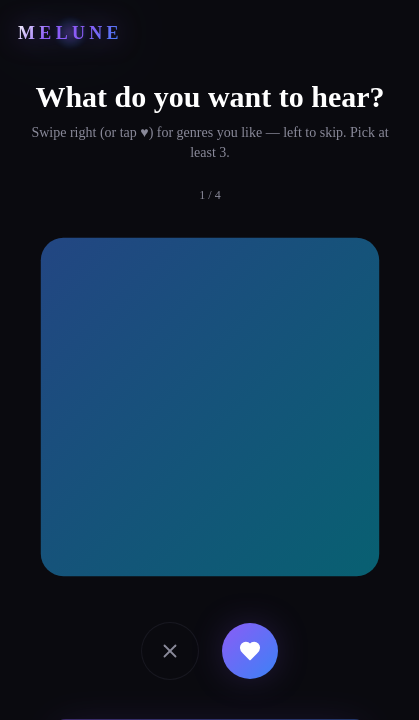
Scenario: OnboardingPage (Tinder-style swipe deck) › Restart picks resets the deck back to the first card
The image size is (419, 720).
Click the button named "Skip Lo-fi". click: (170, 651)
box: [142,623,198,679]
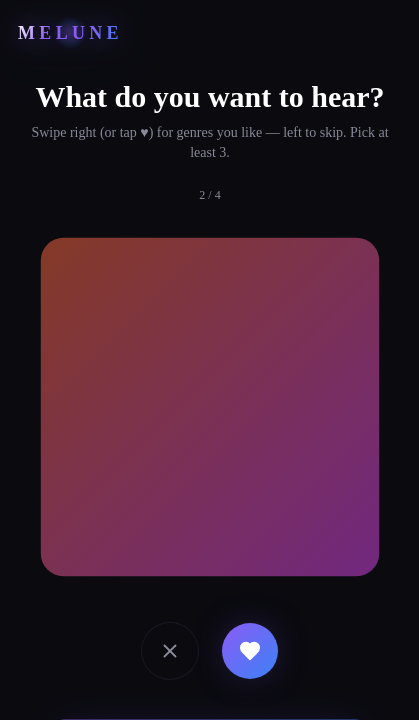
Click the button named "Skip Synthwave". click: (170, 651)
box: [142,623,198,679]
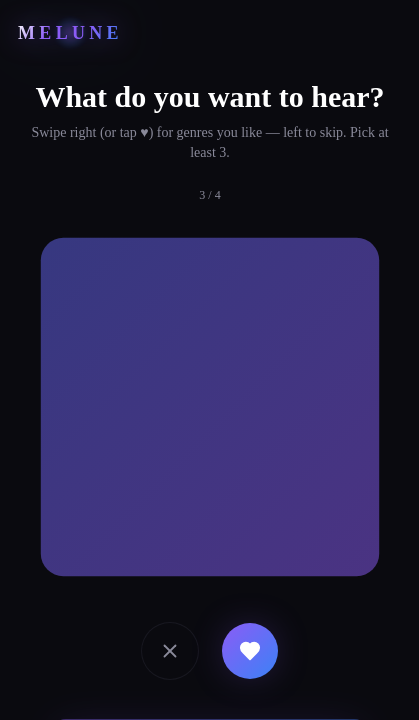
Click the button named "Skip Persian Pop". click: (170, 651)
box: [142,623,198,679]
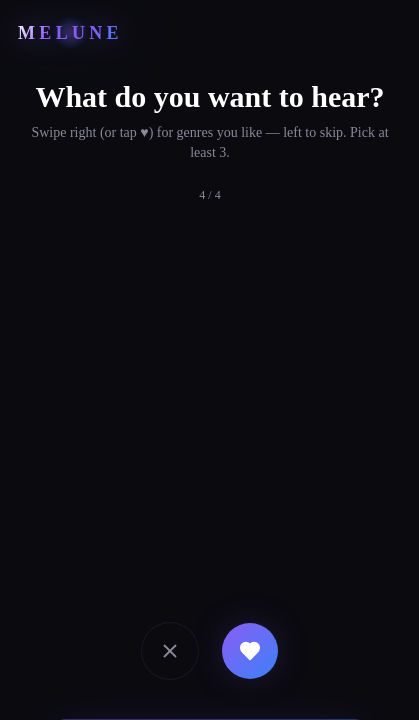
Click the button named "Skip Jazz". click: (170, 651)
box: [142,623,198,679]
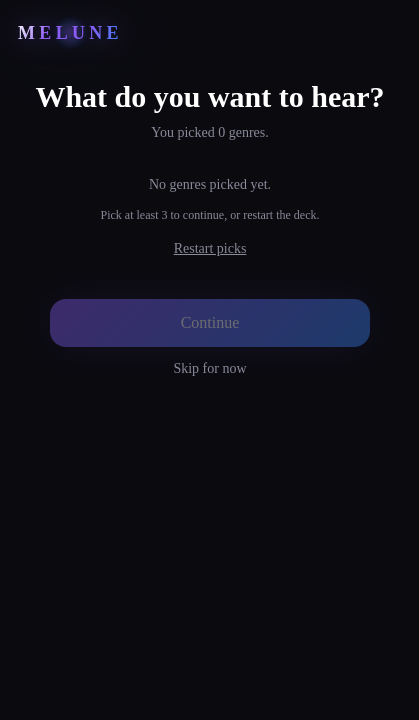
Click the button "Restart picks". click: (210, 249)
box: [174,239,246,259]
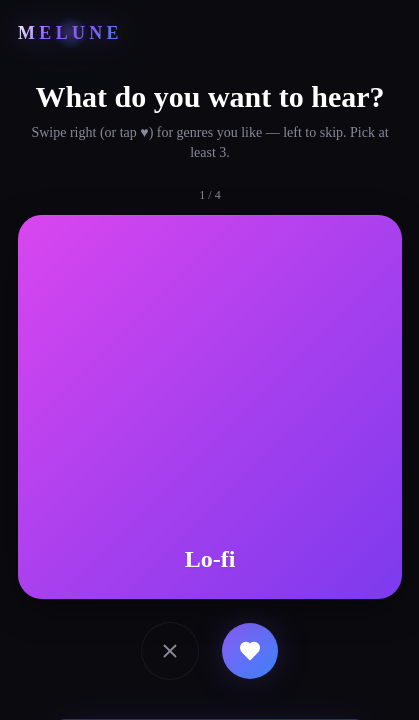
Expected: the text "Lo-fi" is shown, [185,543,235,575]
